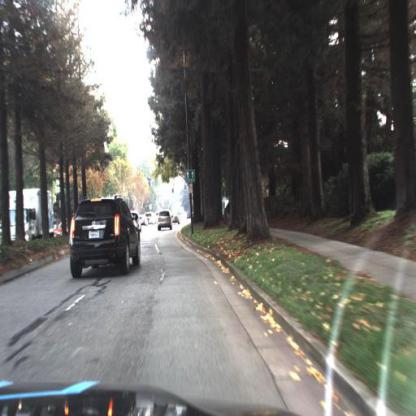car: (68, 197, 143, 282), (158, 208, 173, 233), (173, 209, 182, 230)
truck: (4, 188, 56, 245)
